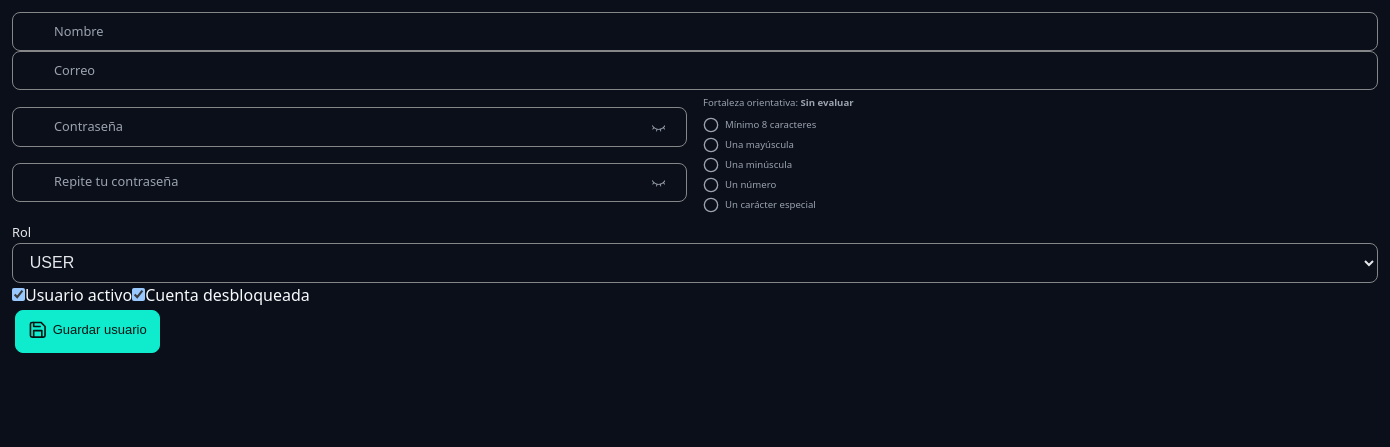
UserForm › [UserForm #02] debe mostrar validaciones y no enviar datos inválidos
Click the button "Guardar usuario" at (88, 331), box top-left (15, 310), bottom-right (160, 353)
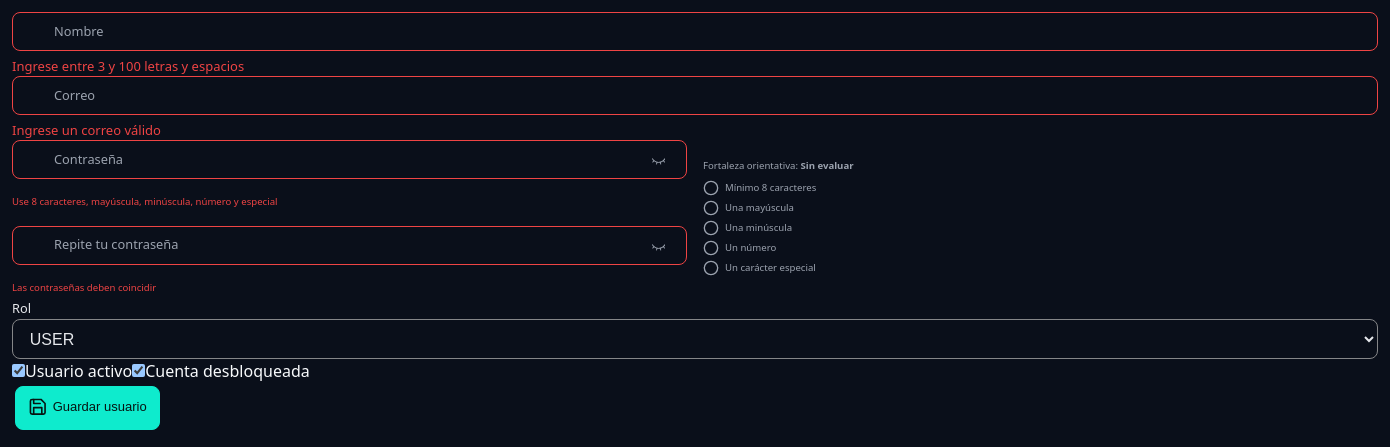
Expected: the text "Ingrese entre 3 y 100 letras y espacios" is shown, top-left (12, 57), bottom-right (244, 75)
Expected: the text "Ingrese un correo válido" is shown, top-left (12, 121), bottom-right (161, 139)
Expected: the text "Use 8 caracteres, mayúscula, minúscula, número y especial" is shown, top-left (12, 195), bottom-right (278, 208)
